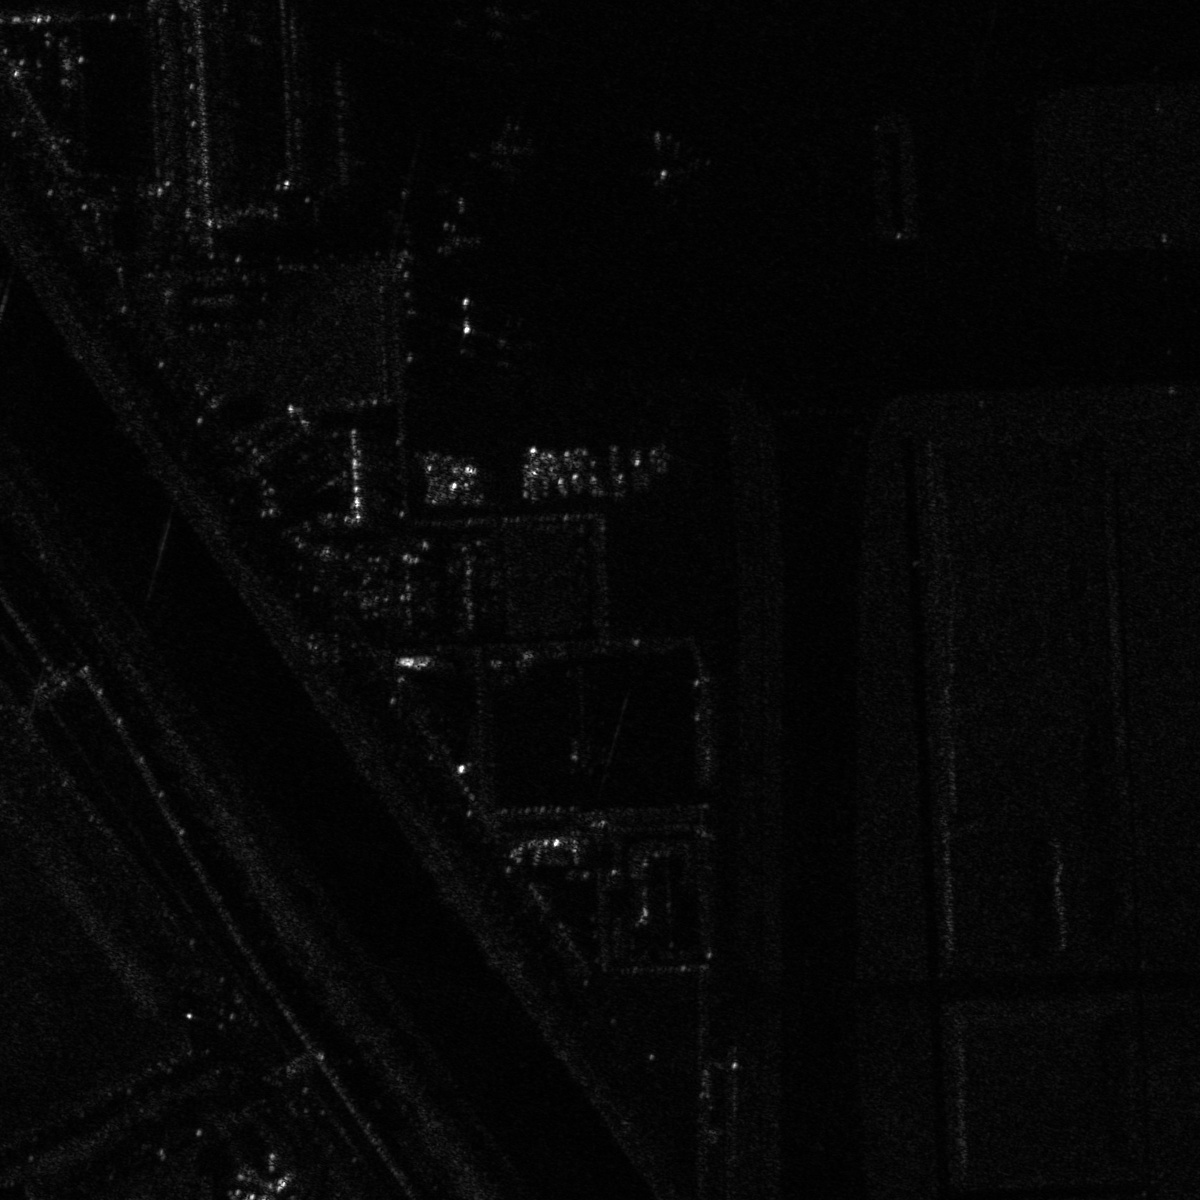A220: (468, 104, 557, 182)
other: (616, 120, 727, 191)
